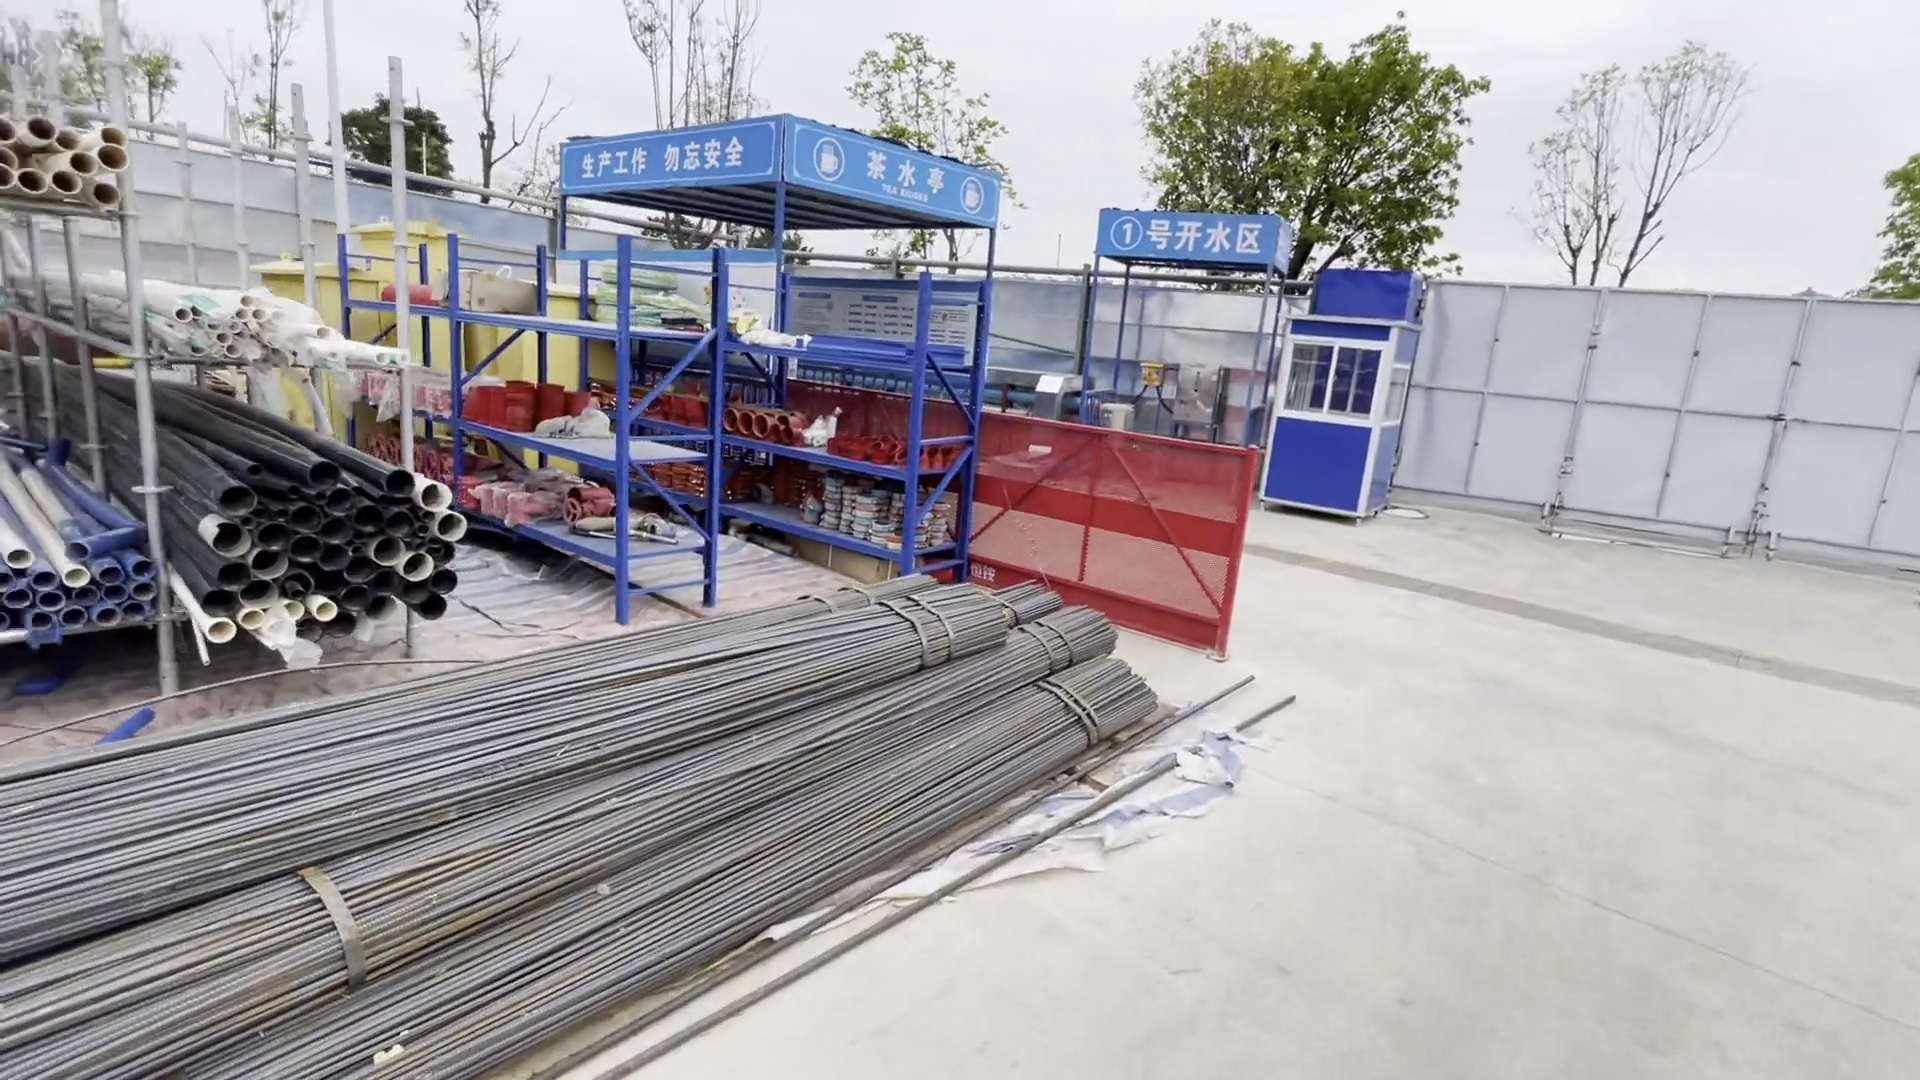ebox: (280, 252, 382, 435), (357, 214, 460, 381), (469, 276, 592, 404), (1130, 363, 1164, 386)
fence: (963, 397, 1246, 654)
rebar: (1, 572, 1154, 1079)
slogan: (563, 137, 746, 187)
